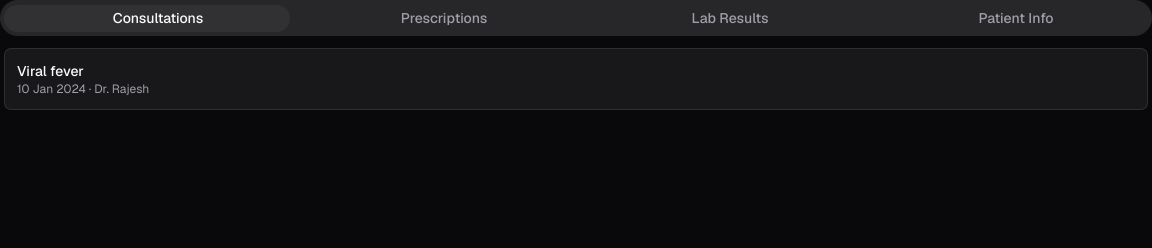
it: PatientTimeline › expands consultation on click
The image size is (1152, 248).
Note: Click to expand
Click the text "Viral fever".
click(50, 71)  # box [17,62,84,80]
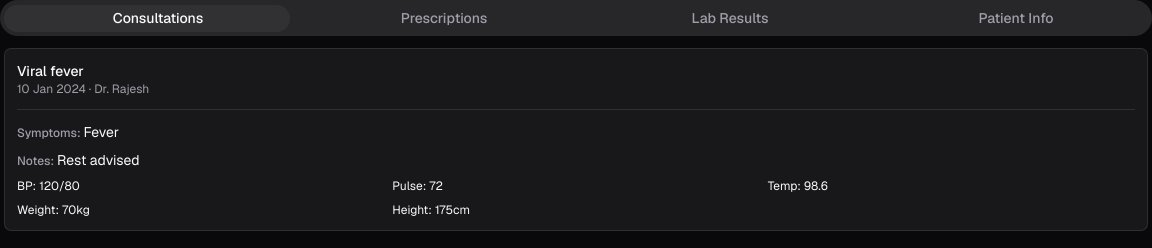
expect the text "Fever" is shown: met, box [84,123,119,141]
